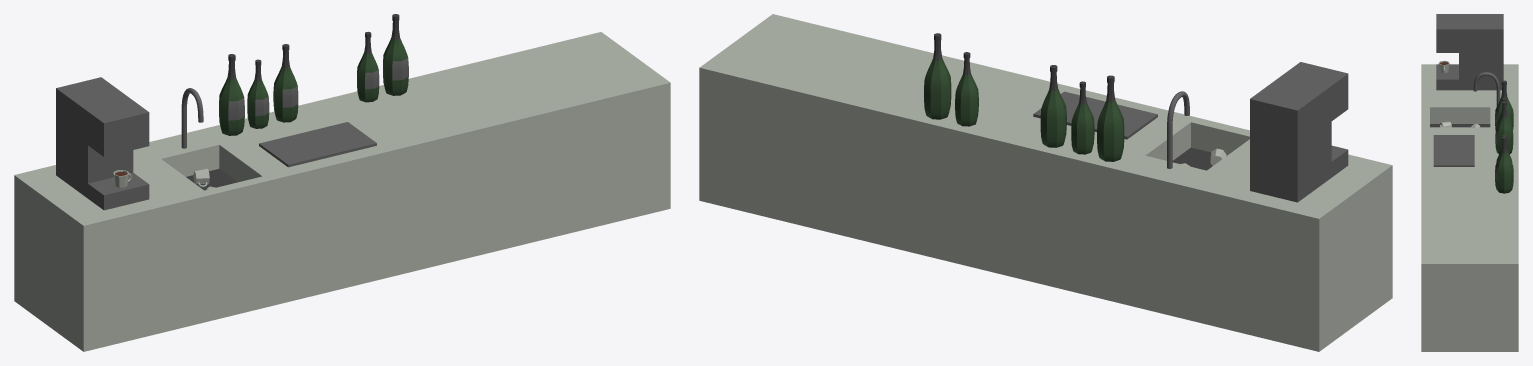
Rendered from Bar.fbx.
3 renders of one model, left to right at view 1: azimuth 30°, elevation 25°; view 2: azimuth 150°, elevation 25°; view 3: azimuth 270°, elevation 25°, orthographic. The views are drawn at different scales.
Visible parts, largest first — view 1: Bar; view 2: Bar; view 3: Bar.
Boxes of the visible parts, x1,y1,x2,y2 form: Bar: [14, 14, 670, 351]; Bar: [699, 14, 1392, 351]; Bar: [1421, 14, 1518, 351].
Size of the model in its own units: 106 by 36.9 by 21.81.
